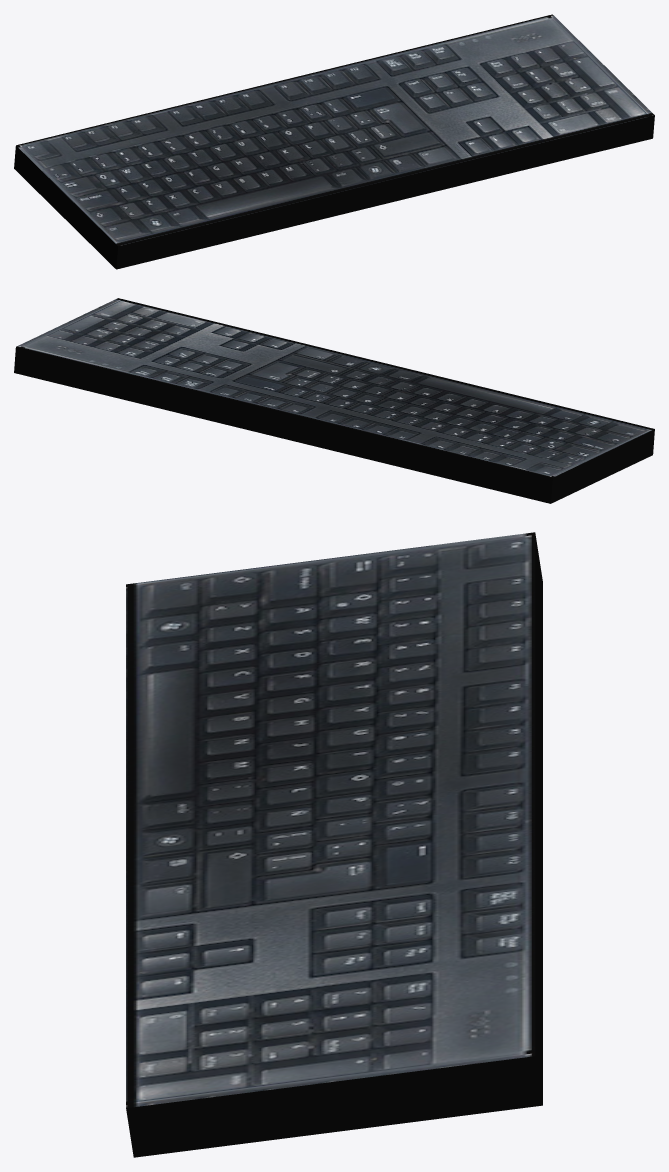
Rendered from Keyboard.fbx.
3 renders of one model, top to bottom at view 1: azimuth 30°, elevation 25°; view 2: azimuth 150°, elevation 25°; view 3: azimuth 270°, elevation 25°, orthographic. The views are drawn at different scales.
Visible parts, largest first — view 1: Keyboard; view 2: Keyboard; view 3: Keyboard.
Boxes of the visible parts, box(x1,y1,x2,y2) form: Keyboard: box(14, 14, 654, 269); Keyboard: box(14, 298, 654, 503); Keyboard: box(126, 532, 542, 1157).
Size of the model in its own units: 0.45 by 0.0407 by 0.1513.
Materials: 2 (1 with a texture image).
